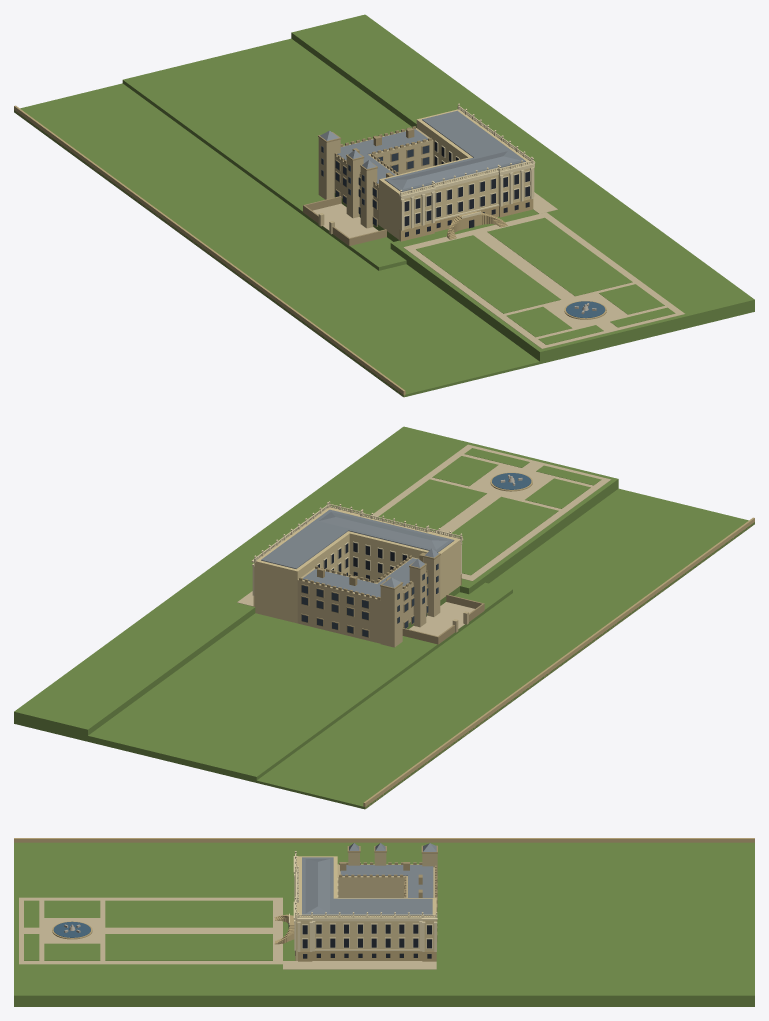
Rendered from chatsworth-b35.glb.
The picture shows the model from 3 angles, top to bottom: view 1: azimuth 30°, elevation 25°; view 2: azimuth 150°, elevation 25°; view 3: azimuth 270°, elevation 25°; orthographic projection. The views are drawn at different scales.
Bounding box in the file's own units: 15.2 × 2.96 × 29.2.
